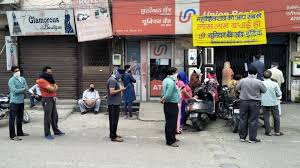Social Distance: (5, 53, 282, 161)
